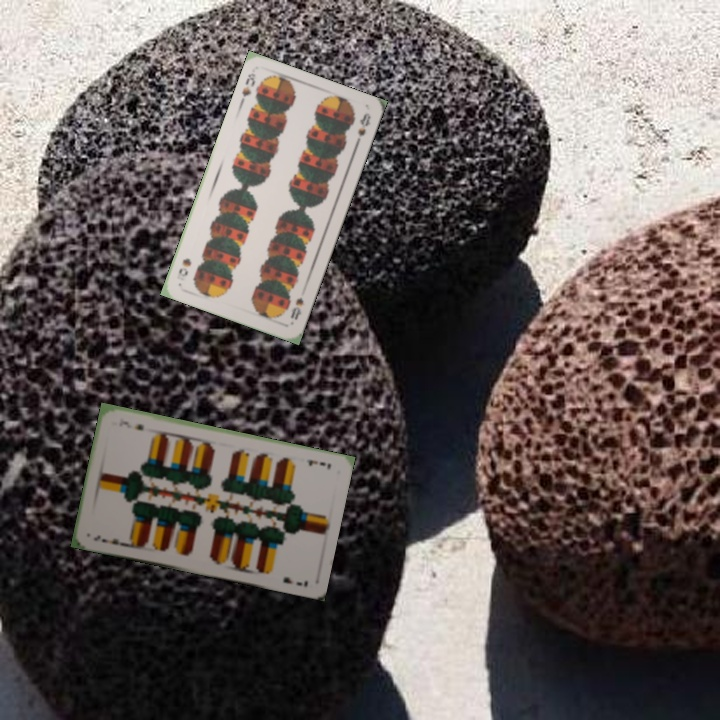E7: (90, 531, 127, 549), (304, 456, 334, 472)
S8: (236, 69, 258, 107), (286, 293, 306, 323)
